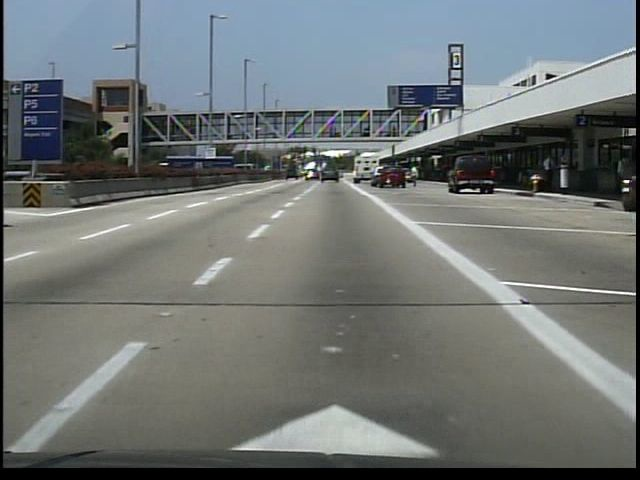person: (538, 154, 558, 198), (409, 168, 423, 190)
